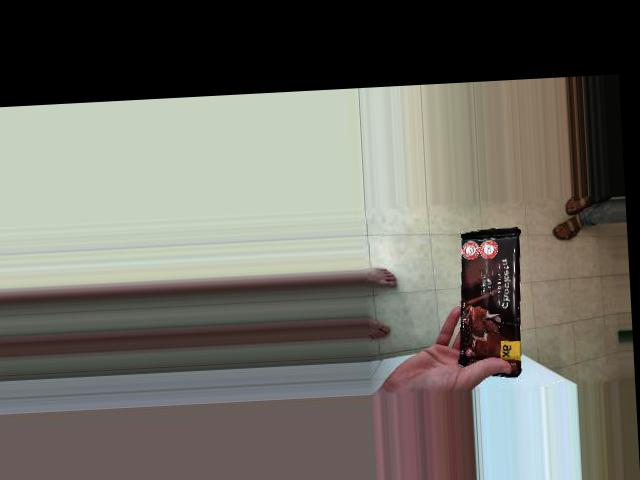chocolate: (434, 207, 594, 305)
